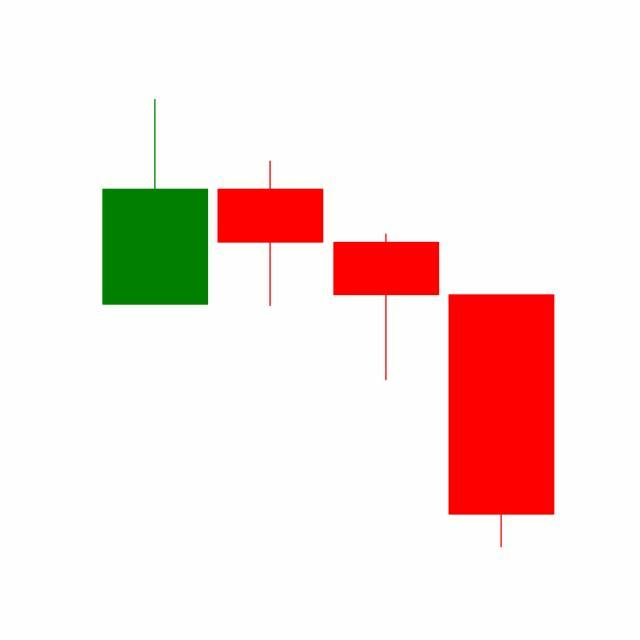Hammer: (329, 232, 445, 383)
